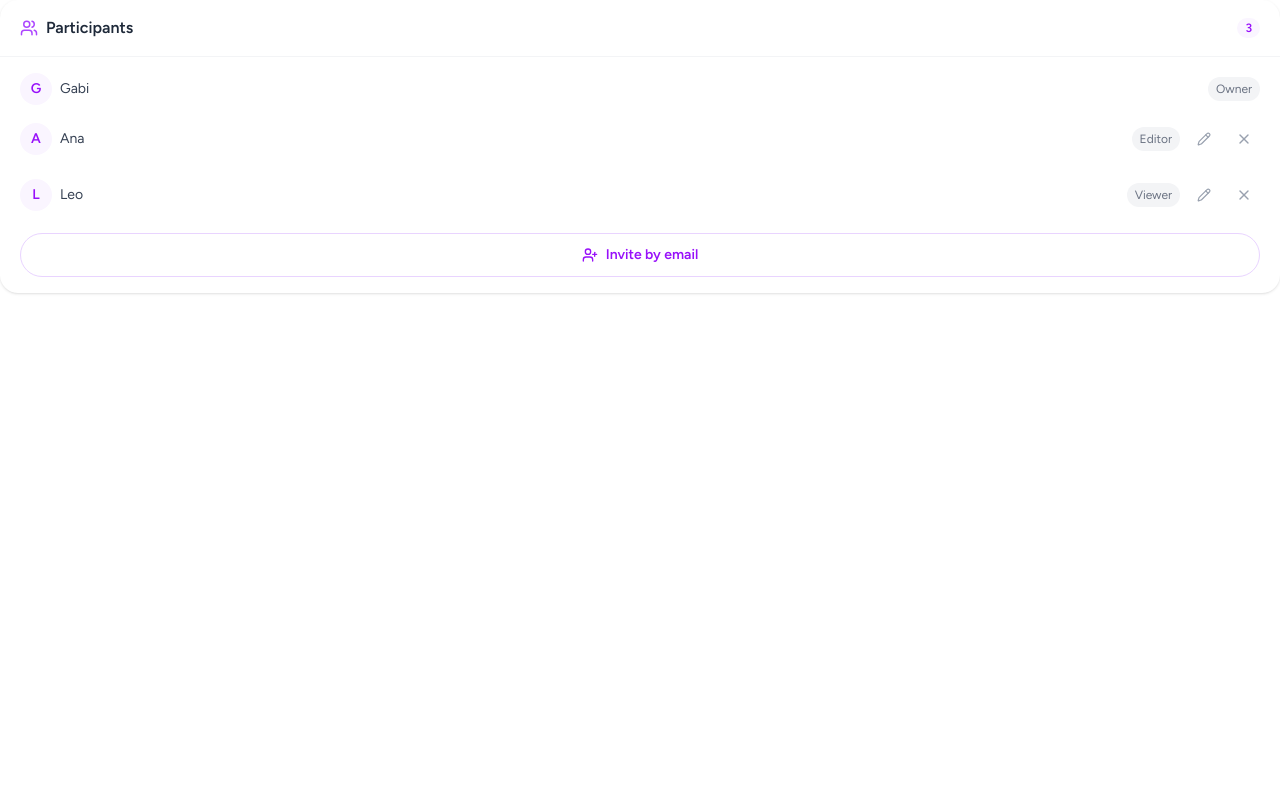
Test: Participants › removing › does nothing when the confirmation is cancelled
Click the button named "Remove Ana": (1244, 139) [1228,117,1260,161]
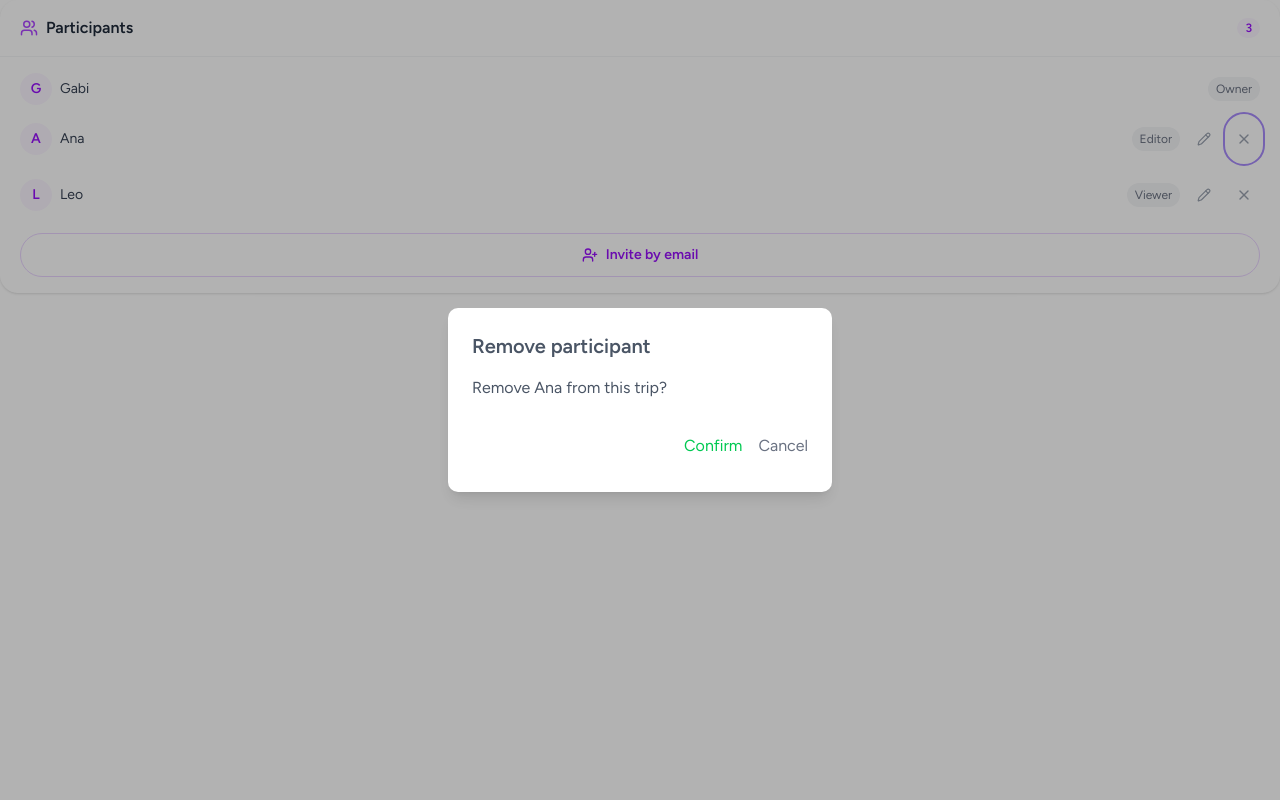
Click the button "Cancel": (783, 446) [758,424,808,468]
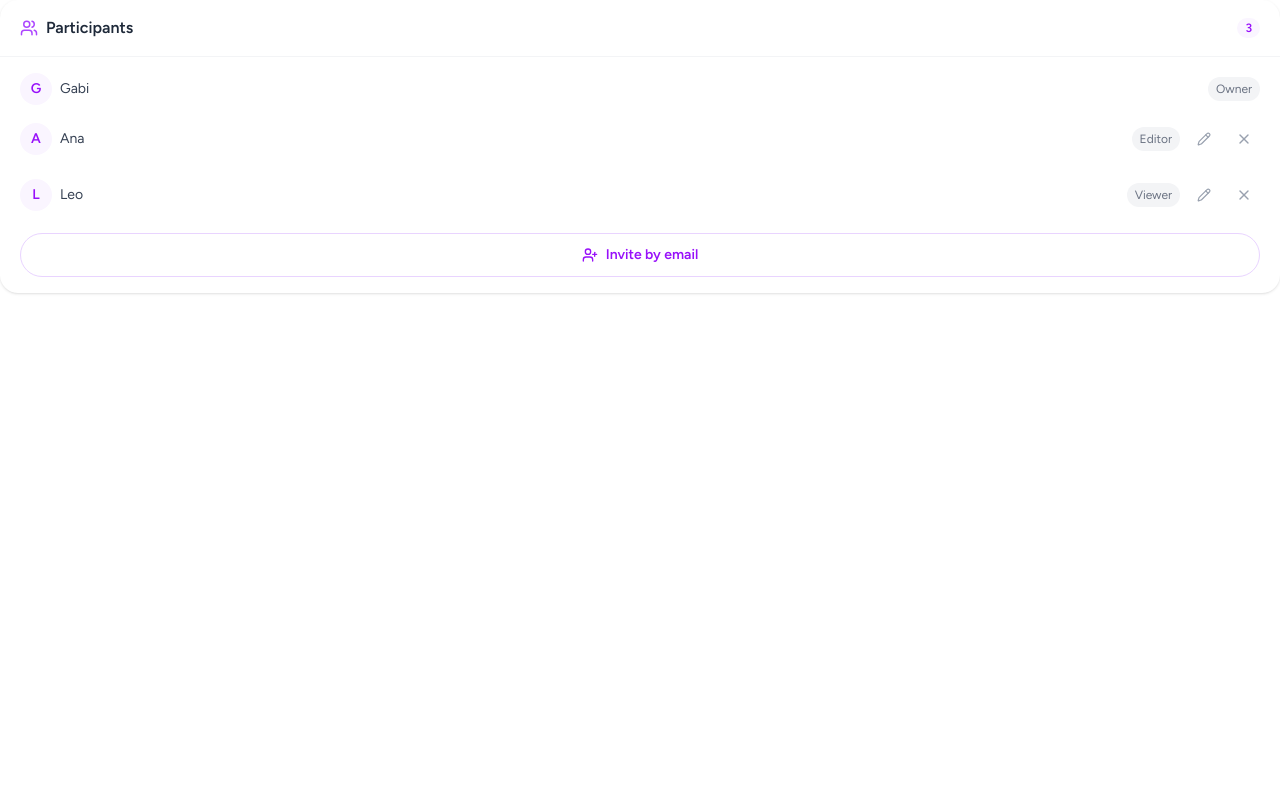
Now the text "Remove Ana from this trip?" is gone
